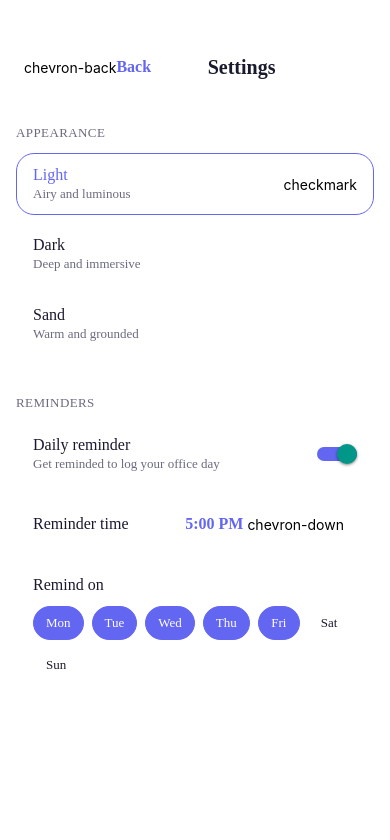
Scenario: SettingsScreen › Notification Preferences › should open time picker when time button is pressed
Click the element with test id "time-picker-button" at (265, 524), box [172,506,357,542]
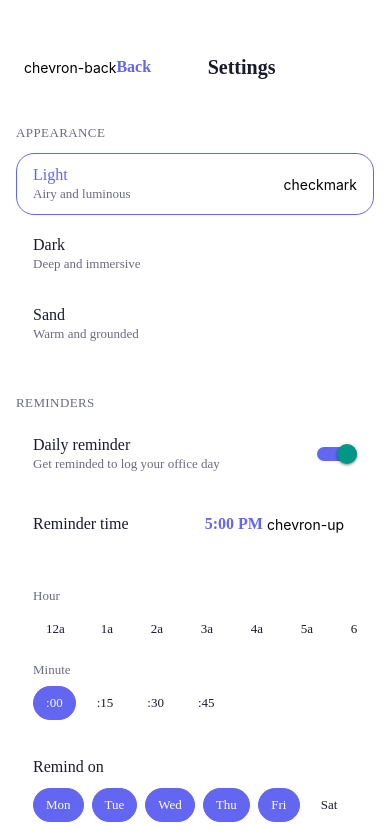
Expected: the element with test id "time-picker-grid" is shown, [16,563,374,737]
